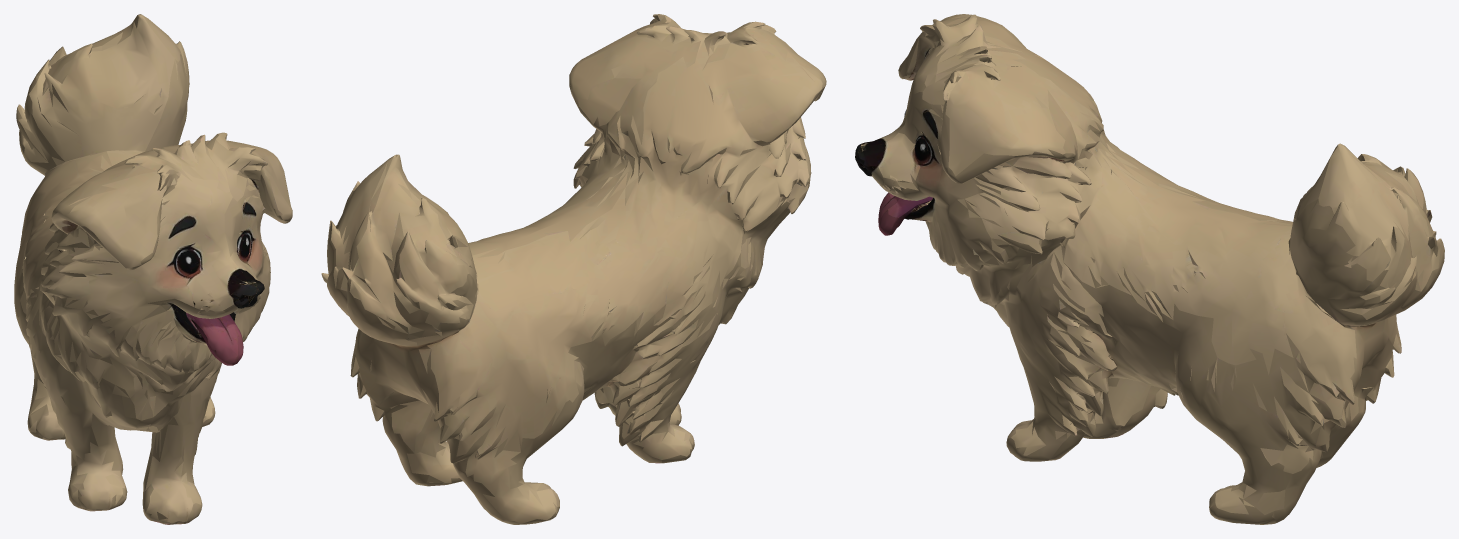
File: char_santi.glb
3 views of the same model, side by side, from view 1: azimuth 30°, elevation 25°; view 2: azimuth 150°, elevation 25°; view 3: azimuth 270°, elevation 25° (orthographic). The views are drawn at different scales.
Bounding box in the file's own units: 1.18 × 1.46 × 1.9.
1 material, 1 textured.
